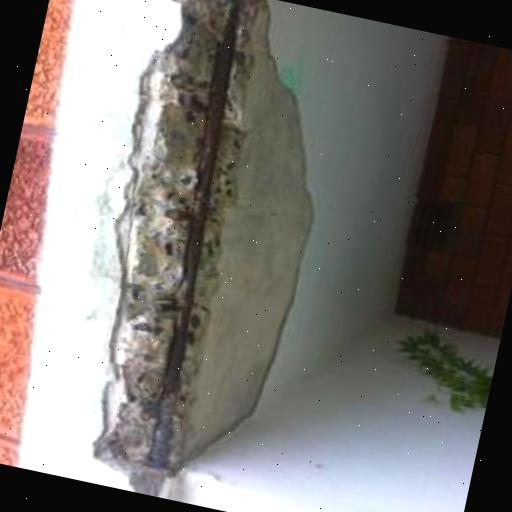spalling: (79, 0, 313, 491)
